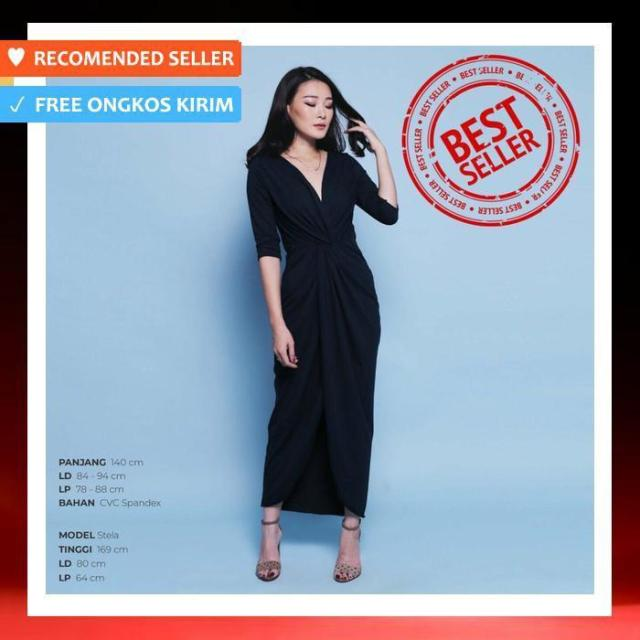dress: (231, 126, 405, 534)
